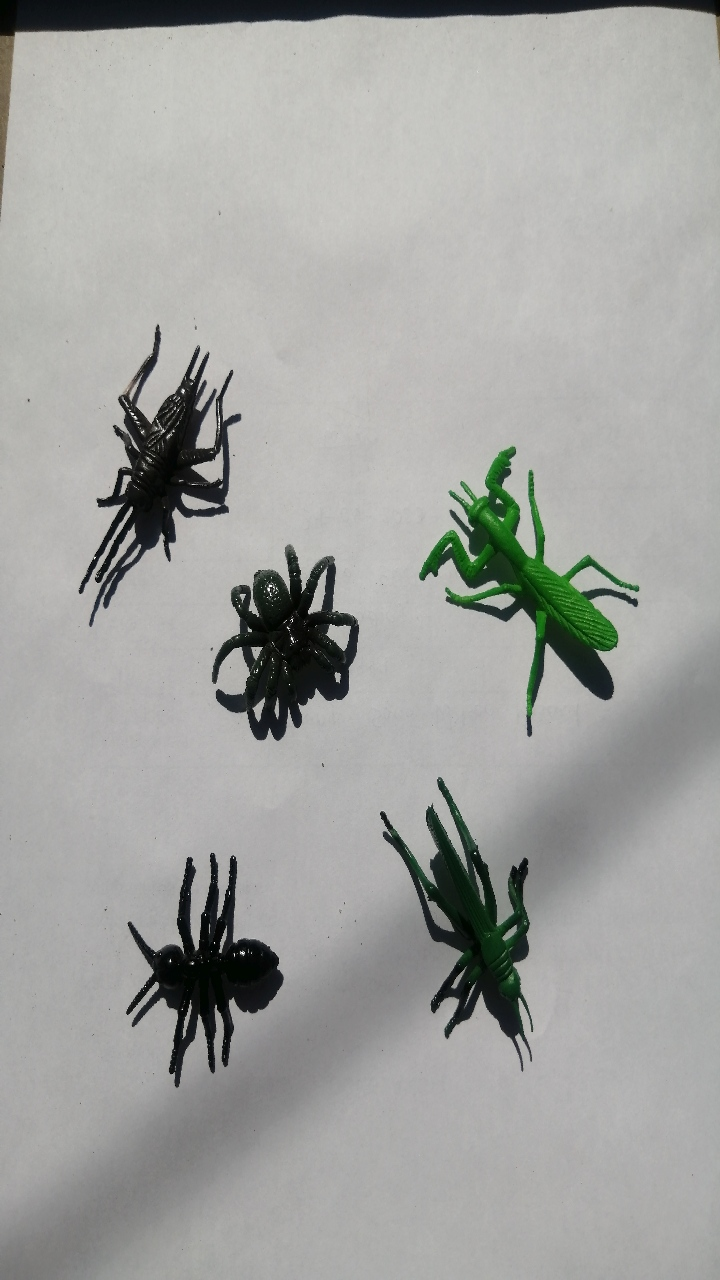intruso: (394, 411, 641, 708), (351, 751, 569, 1080), (69, 305, 251, 612), (91, 819, 295, 1086), (201, 517, 377, 766)
